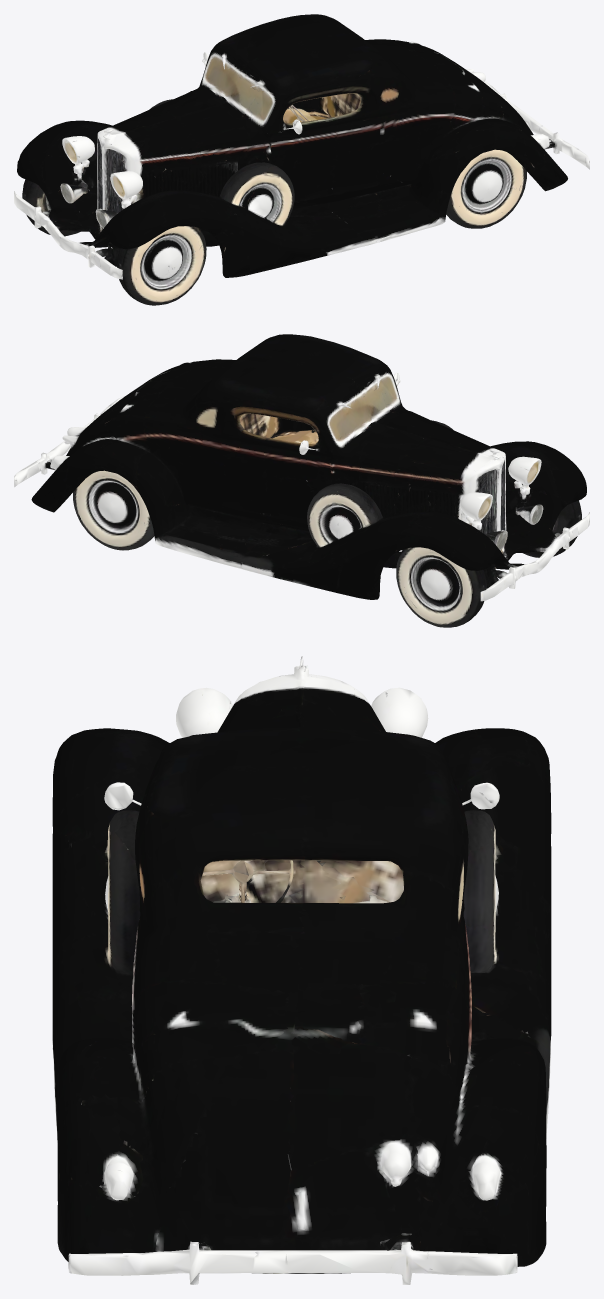
File: klasik-roda-hq.glb
3 renders of one model, top to bottom at view 1: azimuth 30°, elevation 25°; view 2: azimuth 150°, elevation 25°; view 3: azimuth 270°, elevation 25°, orthographic. The views are drawn at different scales.
Parts seen in each view (by area): view 1: body, wheel_AR, wheel_BR; view 2: body, wheel_BL, wheel_AL; view 3: body.
Part boxes in pixels (box(x1,y1,x2,y2)): body: box(14, 14, 589, 305); wheel_AR: box(138, 236, 197, 301); wheel_BR: box(458, 160, 518, 224); body: box(14, 334, 589, 627); wheel_BL: box(81, 481, 142, 546); wheel_AL: box(404, 557, 464, 622); body: box(52, 656, 551, 1284).
Size of the model in its own units: 1.9 by 0.6883 by 0.8656.
Materials: 1 (1 with a texture image).
